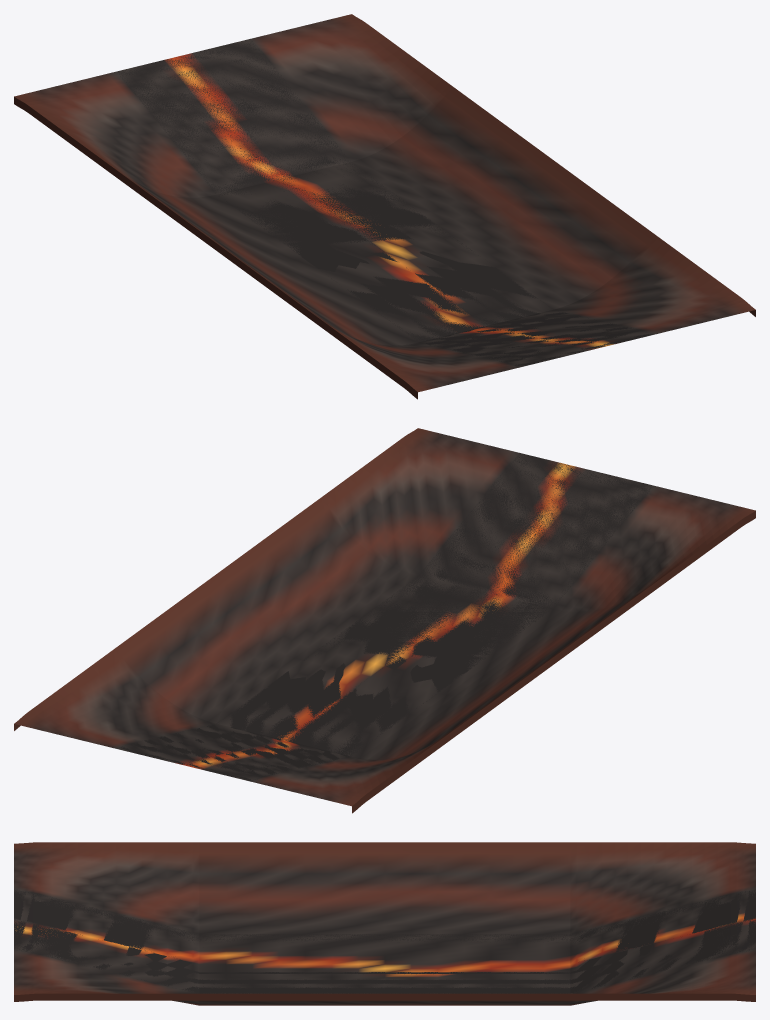
Rendered from lava_channel.glb.
3 renders of one model, top to bottom at view 1: azimuth 30°, elevation 25°; view 2: azimuth 150°, elevation 25°; view 3: azimuth 270°, elevation 25°, orthographic. The views are drawn at different scales.
Visible parts, largest first — view 1: lava_channel, lava_channel-col; view 2: lava_channel, lava_channel-col; view 3: lava_channel, lava_channel-col.
Boxes of the visible parts, left/top/right/bottom form: lava_channel: left=14, top=14, right=755, bottom=399; lava_channel-col: left=117, top=39, right=653, bottom=366; lava_channel: left=14, top=428, right=755, bottom=813; lava_channel-col: left=119, top=453, right=653, bottom=780; lava_channel: left=14, top=842, right=755, bottom=1005; lava_channel-col: left=14, top=889, right=755, bottom=993.
Bounding box in the file's own units: 28 × 4 × 58.
